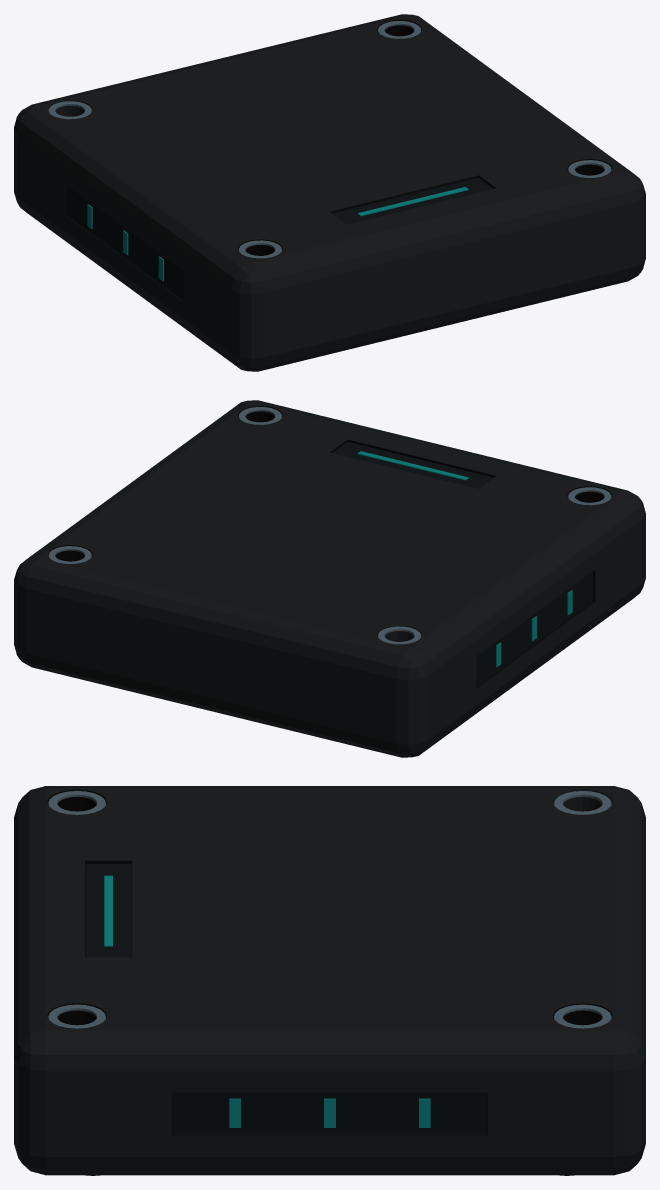
3 views of the same model, one above another, from view 1: azimuth 30°, elevation 25°; view 2: azimuth 150°, elevation 25°; view 3: azimuth 270°, elevation 25° (orthographic). The views are drawn at different scales.
Parts seen in each view (by area): view 1: base; view 2: base; view 3: base.
Part boxes in pixels (x1,y1,x2,y2): base: [14, 14, 645, 371]; base: [14, 400, 645, 757]; base: [14, 786, 645, 1175].
Bounding box in the file's own units: 0.08 × 0.0216 × 0.08.
